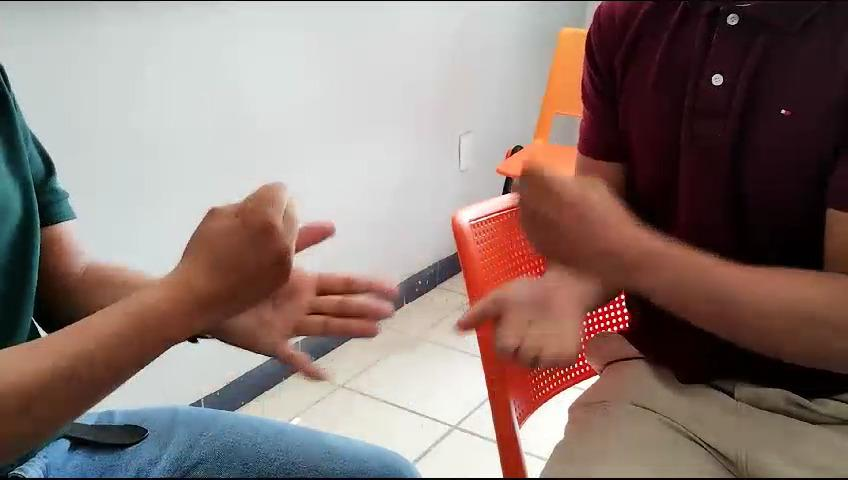Stone: (180, 164, 316, 329), (500, 139, 641, 288)
